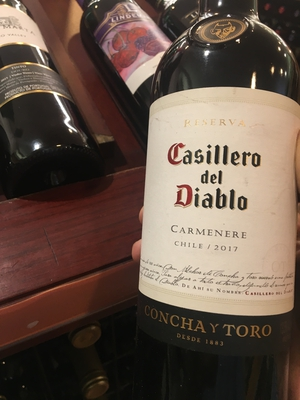casillero del diablo carmenere: (118, 19, 300, 385)
